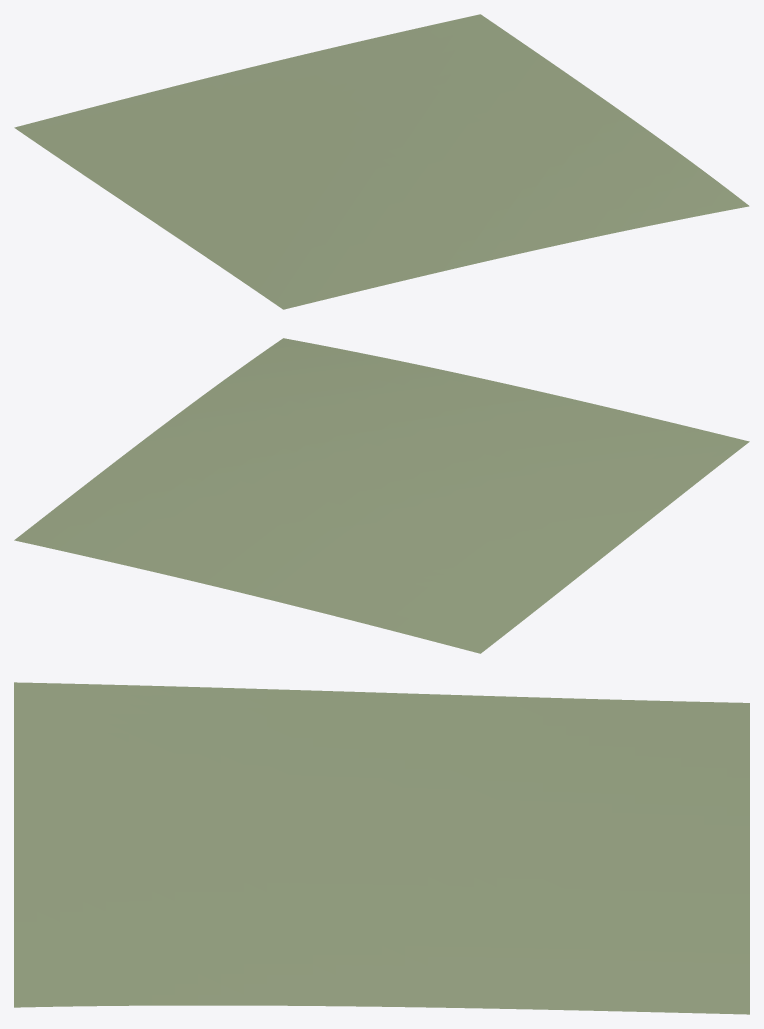
The model's file is expanse-8-20.glb.
3 renders of one model, top to bottom at view 1: azimuth 30°, elevation 25°; view 2: azimuth 150°, elevation 25°; view 3: azimuth 270°, elevation 25°, orthographic. The views are drawn at different scales.
Visible parts, largest first — view 1: expanse-8-20; view 2: expanse-8-20; view 3: expanse-8-20.
Part boxes in pixels (<box>): expanse-8-20: <box>14,14,749,309</box>; expanse-8-20: <box>14,338,749,653</box>; expanse-8-20: <box>14,682,749,1014</box>.
Bounding box in the file's own units: 256 × 8.1 × 256.
